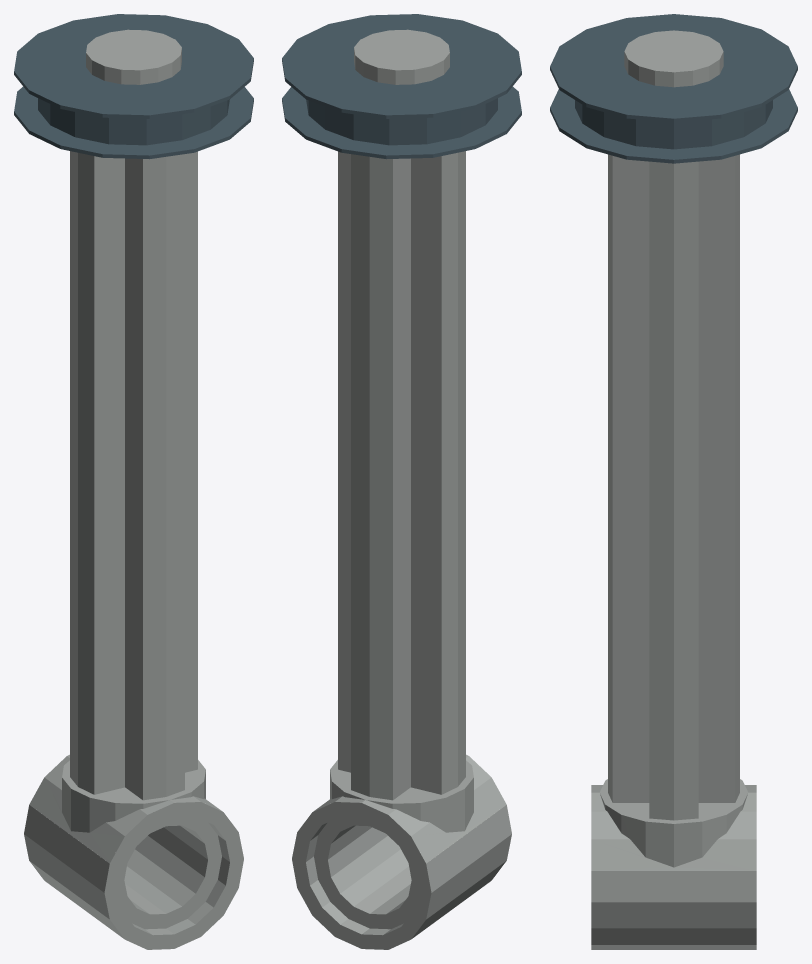
The picture shows the model from 3 angles, left to right: view 1: azimuth 30°, elevation 25°; view 2: azimuth 150°, elevation 25°; view 3: azimuth 270°, elevation 25°; orthographic projection. The views are drawn at different scales.
Visible parts, largest first — view 1: world; view 2: world; view 3: world.
Part boxes in pixels (x1,y1,x2,y2): world: (14,14,253,949); world: (282,14,521,949); world: (550,14,797,949).
Bounding box in the file's own units: 0.012 × 0.0476 × 0.012.
